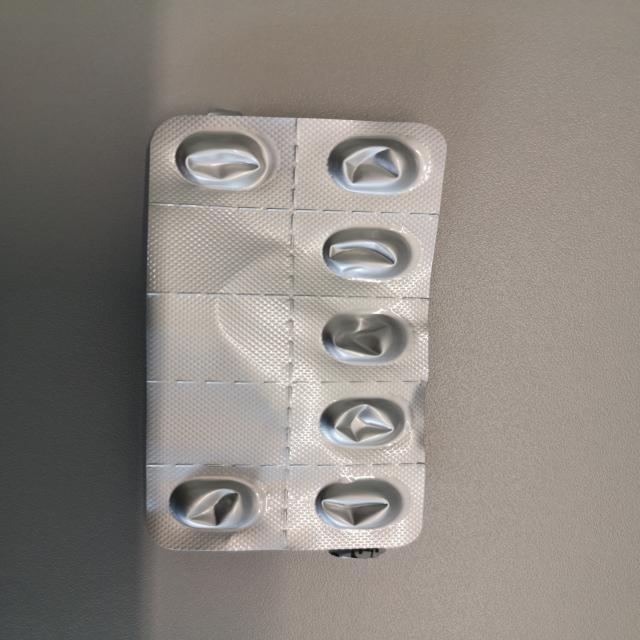Empty: (171, 130, 273, 192), (313, 223, 416, 282), (325, 135, 426, 195), (165, 476, 270, 533), (314, 310, 416, 368), (309, 477, 406, 535), (314, 391, 410, 449)
